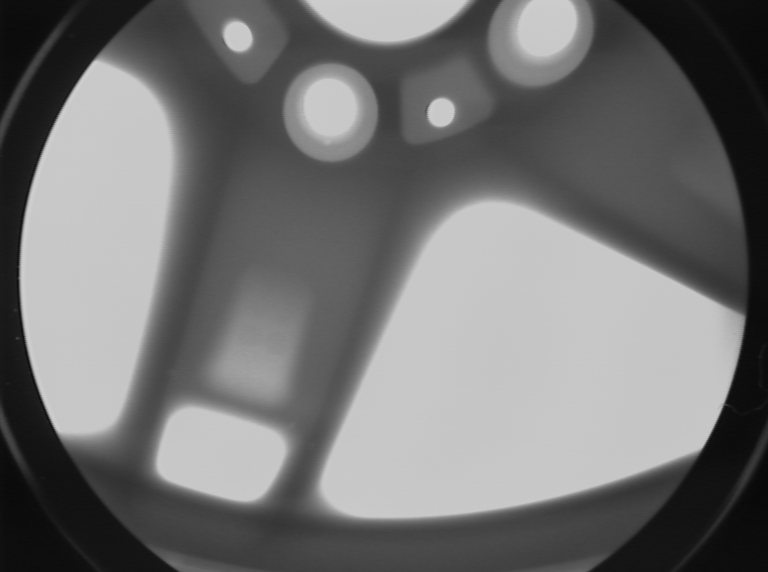defect: (161, 365, 181, 385)
